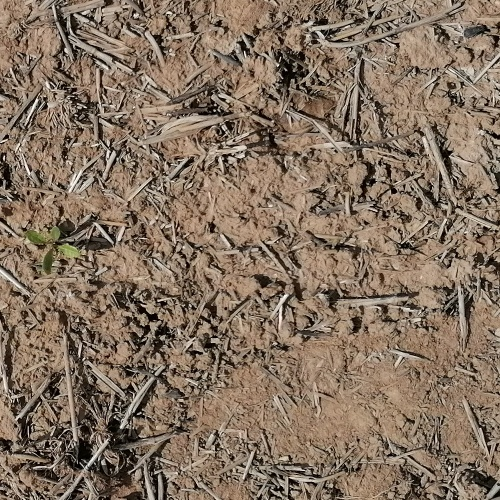beet: (22, 228, 86, 275)
